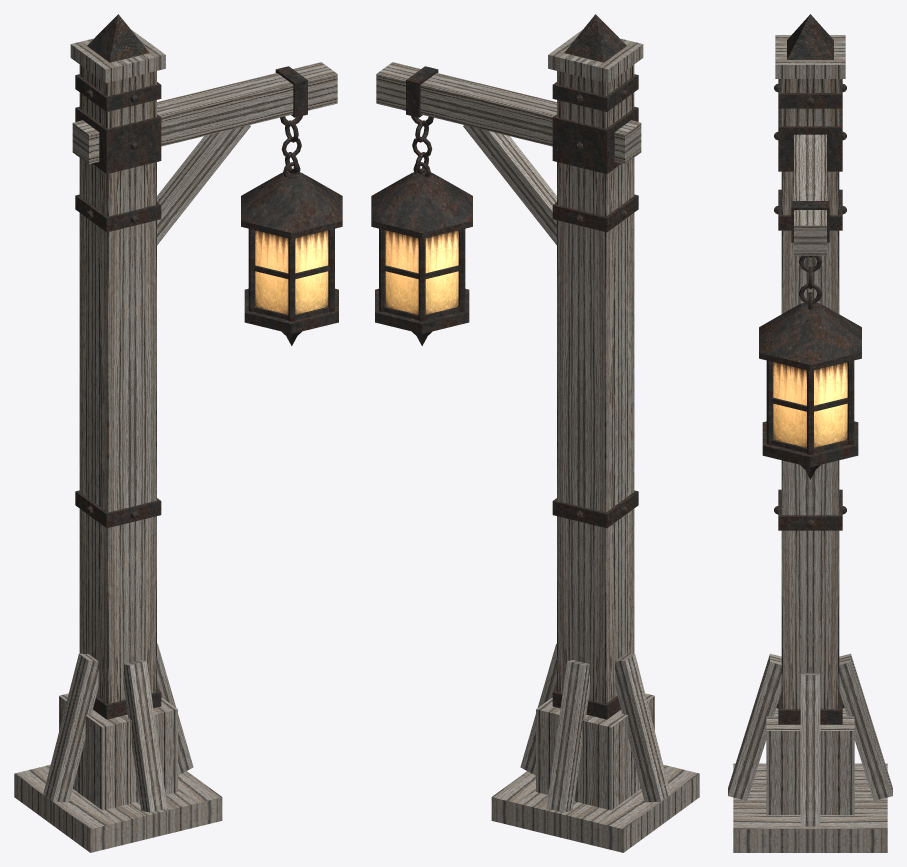
Rendered from street-lamp-v02.glb.
3 renders of one model, left to right at view 1: azimuth 30°, elevation 25°; view 2: azimuth 150°, elevation 25°; view 3: azimuth 270°, elevation 25°, orthographic.
Parts seen in each view (by area): view 1: street-lamp; view 2: street-lamp; view 3: street-lamp.
Boxes of the visible parts, x1,y1,x2,y2 form: street-lamp: (14,14,342,852); street-lamp: (371,14,699,852); street-lamp: (728,14,892,852).
Size of the model in its own units: 1.56 by 4.03 by 0.7466.
Materials: 3 (3 with a texture image).
